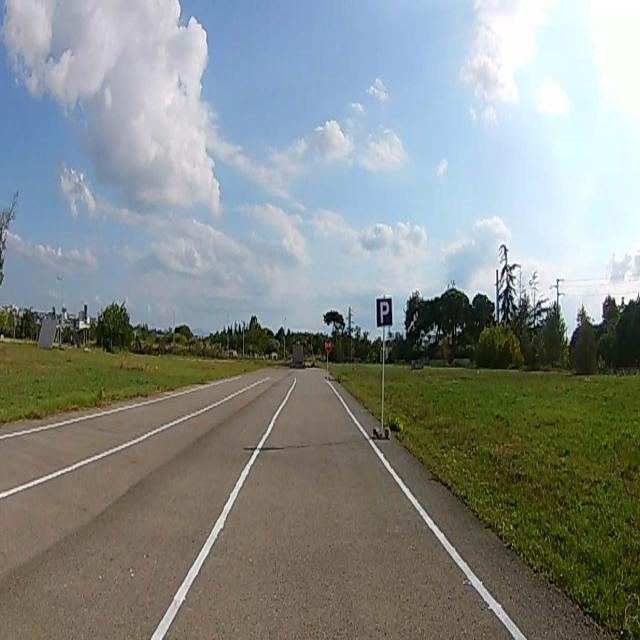park: (376, 297, 392, 326)
